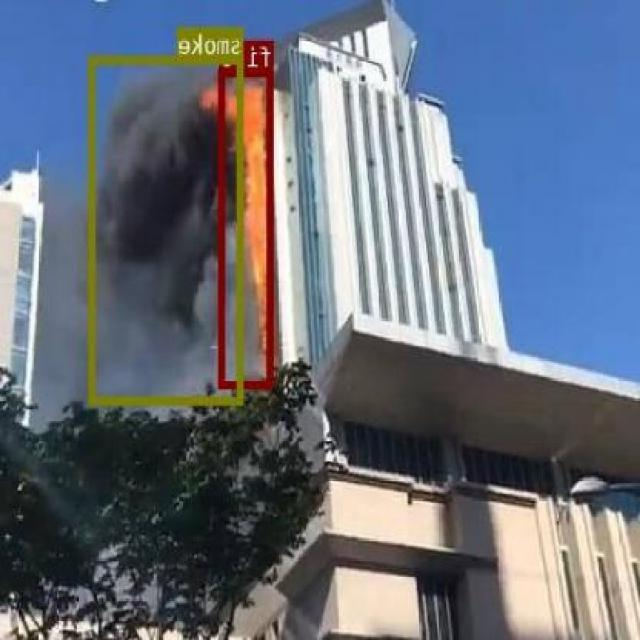Fire: (220, 68, 274, 388)
Smoke: (90, 54, 246, 403)
